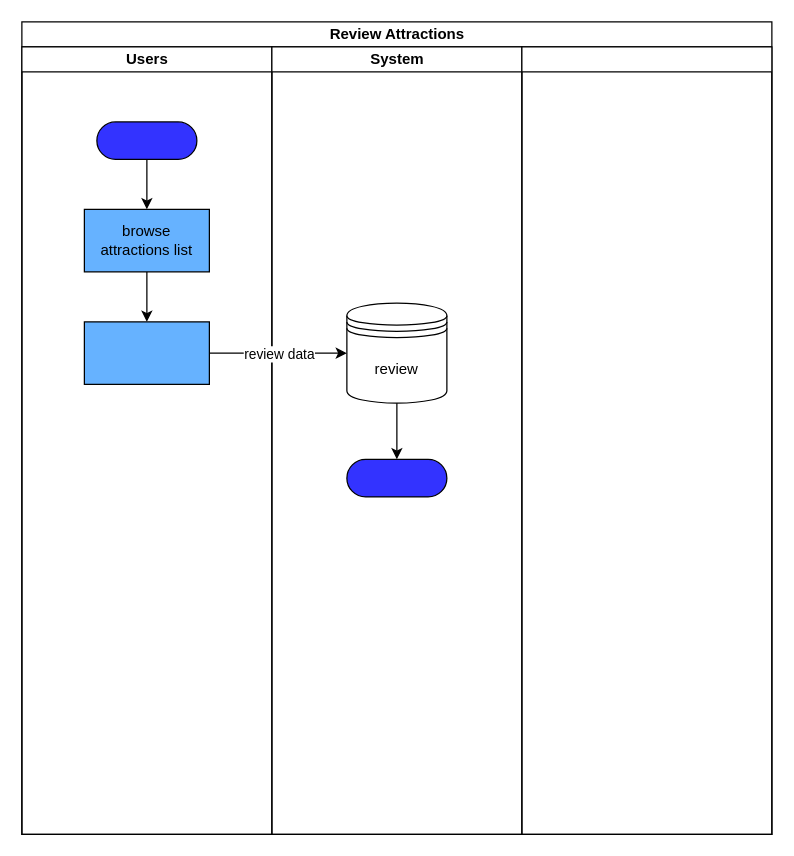
The diagram is 794 pixels wide and 856 high, and some of its shapes have lost their labels. The shapes that lost their labels are listed below. From the top down, each one's centre as x and y in pixels, then its label:
At [146,352]: "review attraction".
At [646,440]: "Admin".
